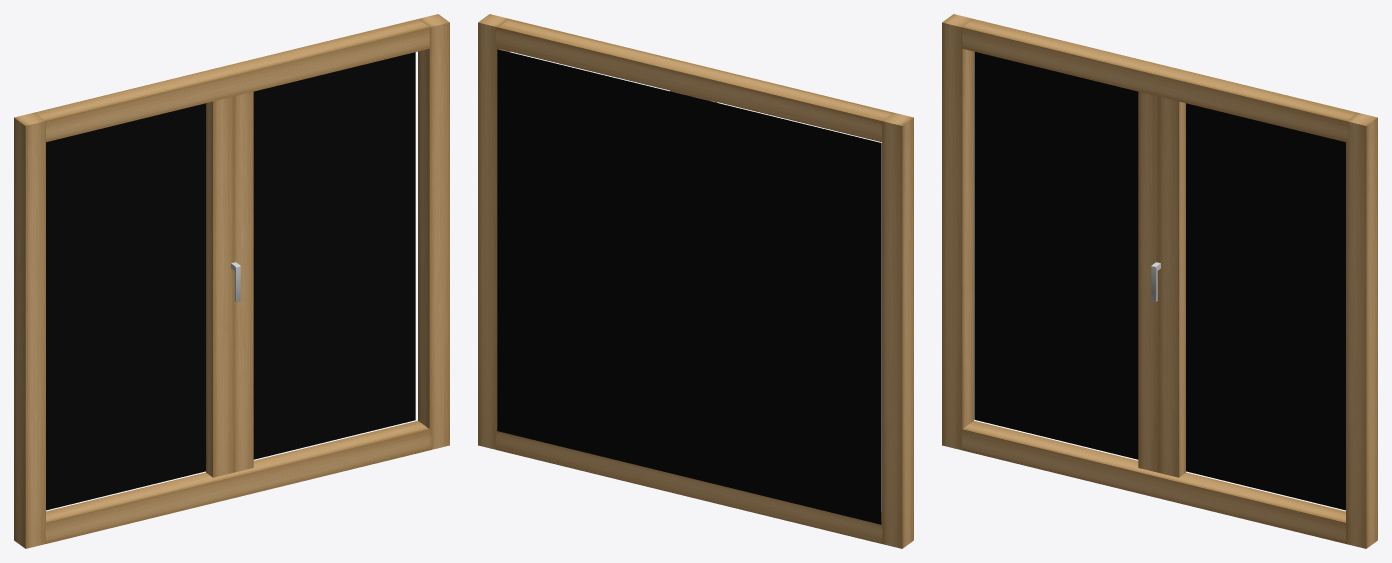
The model's file is window.fbx.
The picture shows the model from 3 angles, left to right: view 1: azimuth 30°, elevation 25°; view 2: azimuth 150°, elevation 25°; view 3: azimuth 330°, elevation 25°; orthographic projection.
Visible parts, largest first — view 1: pane, Cube, Cube_1, Cube_2, Cube_3, Cube_5, Cube_4; view 2: pane, Cube, Cube_2, Cube_1, Cube_3; view 3: pane, Cube_1, Cube, Cube_2, Cube_3, Cube_4, Cube_5.
Boxes of the visible parts, x1,y1,x2,y2 form: pane: [46, 52, 415, 510]; Cube: [14, 112, 45, 548]; Cube_1: [418, 14, 449, 449]; Cube_2: [34, 19, 429, 142]; Cube_3: [45, 421, 431, 543]; Cube_5: [206, 96, 233, 477]; Cube_4: [233, 91, 253, 472]; pane: [497, 49, 881, 524]; Cube: [882, 112, 913, 548]; Cube_2: [496, 19, 893, 142]; Cube_1: [478, 14, 509, 449]; Cube_3: [496, 429, 882, 543]; pane: [974, 51, 1345, 510]; Cube_1: [1346, 112, 1377, 548]; Cube: [942, 14, 973, 450]; Cube_2: [962, 19, 1357, 142]; Cube_3: [962, 421, 1345, 543]; Cube_4: [1158, 96, 1185, 477]; Cube_5: [1138, 91, 1158, 472].
Bounding box in the file's own units: 210 × 200 × 11.73.
2 materials, 1 textured.
